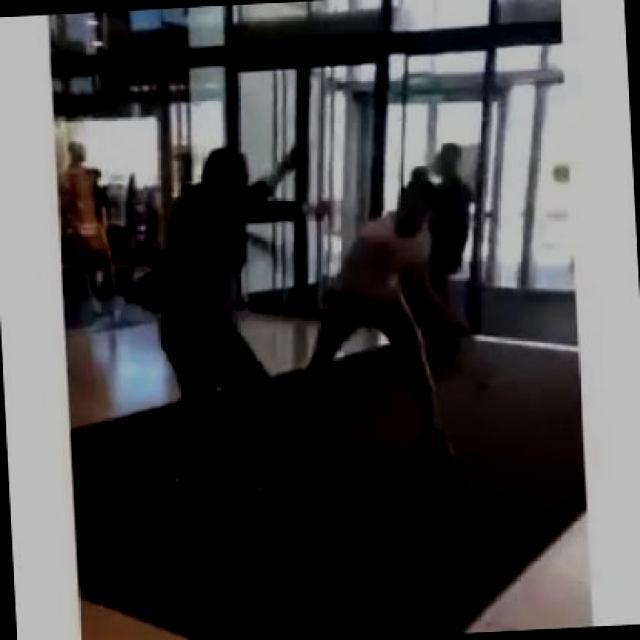fight: (122, 134, 458, 497)
